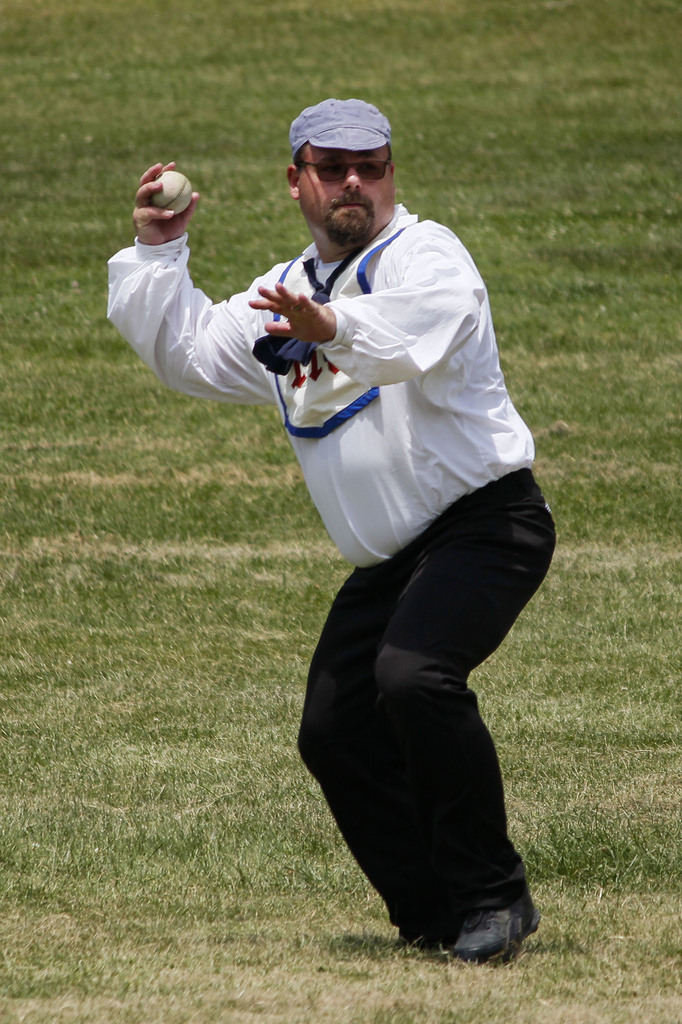Ball: (148, 169, 193, 220)
